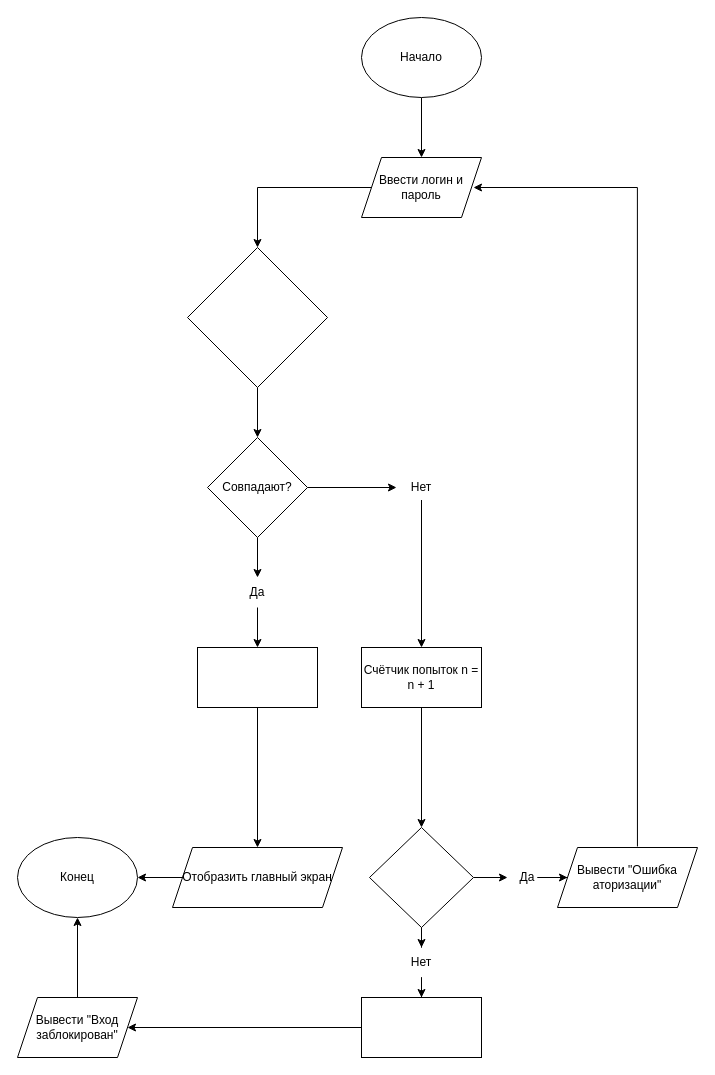
Some shapes in this 715 by 1075 pixel diagram are drawn without their labels. The centre of each missing label's shape, as x and y in pixels:
Заблокировать вход: pixel 421 1027
Попыток < 3?: pixel 421 877
Проверить логин и пароль: pixel 257 317
Установить права доступа: pixel 257 677
